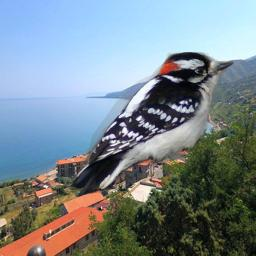Woodpecker: (64, 52, 234, 195)
